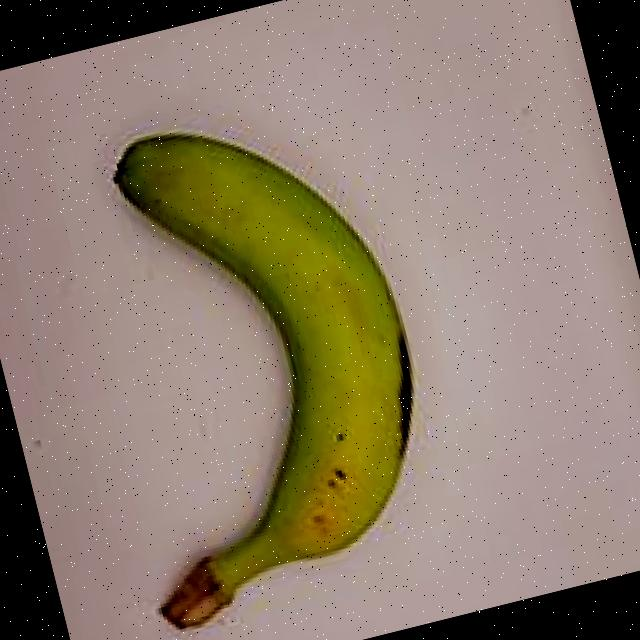Unripe: (0, 51, 492, 640)
